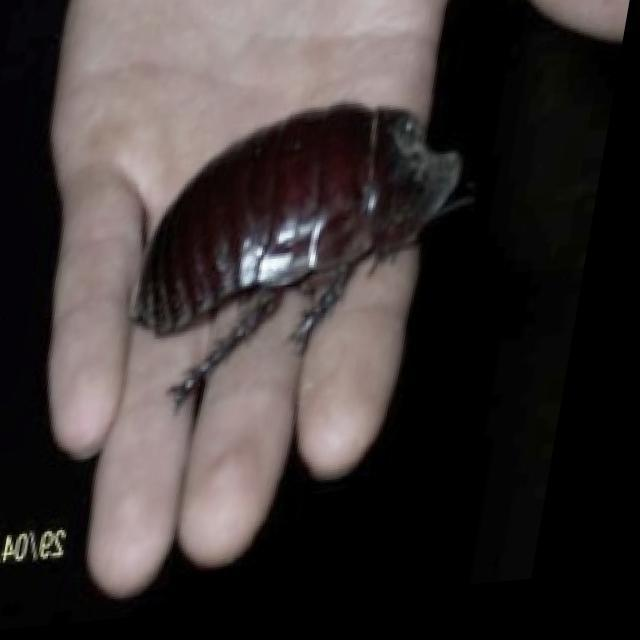cockroach: (106, 69, 503, 399)
